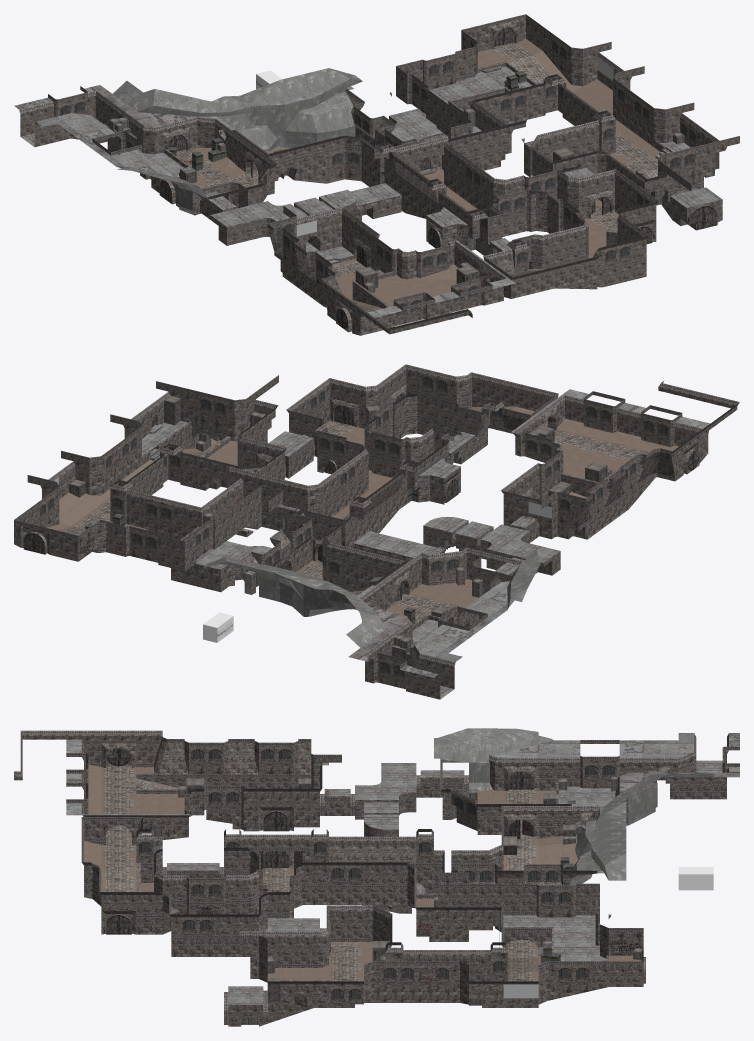
File: DustII.obj
The picture shows the model from 3 angles, top to bottom: view 1: azimuth 30°, elevation 25°; view 2: azimuth 150°, elevation 25°; view 3: azimuth 270°, elevation 25°; orthographic projection. The views are drawn at different scales.
Visible parts, largest first — view 1: de_dust2; view 2: de_dust2; view 3: de_dust2.
Boxes of the visible parts, bbox=[...] form: de_dust2: bbox=[14, 14, 739, 335]; de_dust2: bbox=[14, 364, 739, 699]; de_dust2: bbox=[14, 728, 739, 1026].
Bounding box in the file's own units: 58.21 × 7.9 × 69.01.
